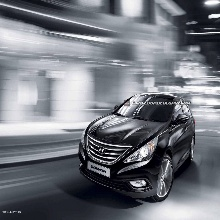no damage: (78, 92, 197, 202)
